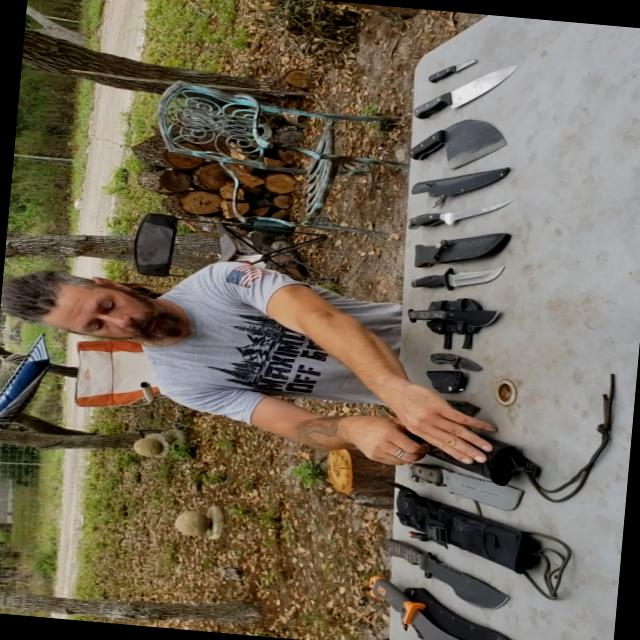knife: (397, 445, 539, 533), (369, 538, 508, 618), (344, 577, 503, 639), (404, 106, 516, 170), (404, 252, 518, 306), (408, 294, 512, 340), (422, 193, 512, 239), (446, 64, 522, 118), (417, 344, 495, 381), (414, 50, 478, 87)
